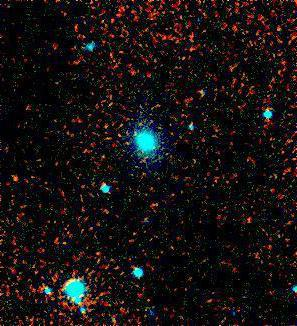star: (5, 167, 35, 197)
